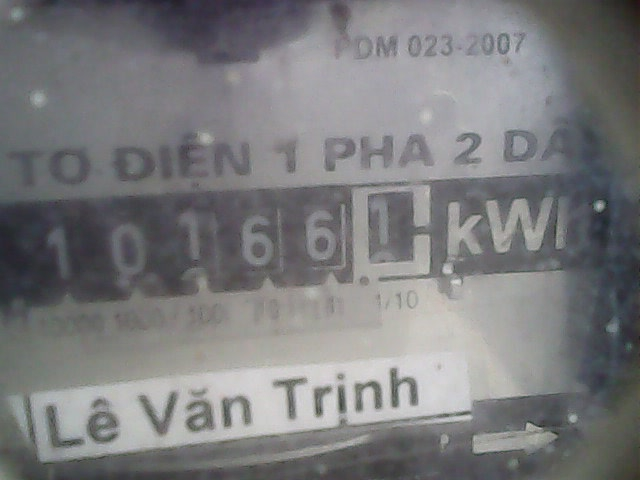phy_plate: (36, 180, 436, 299)
